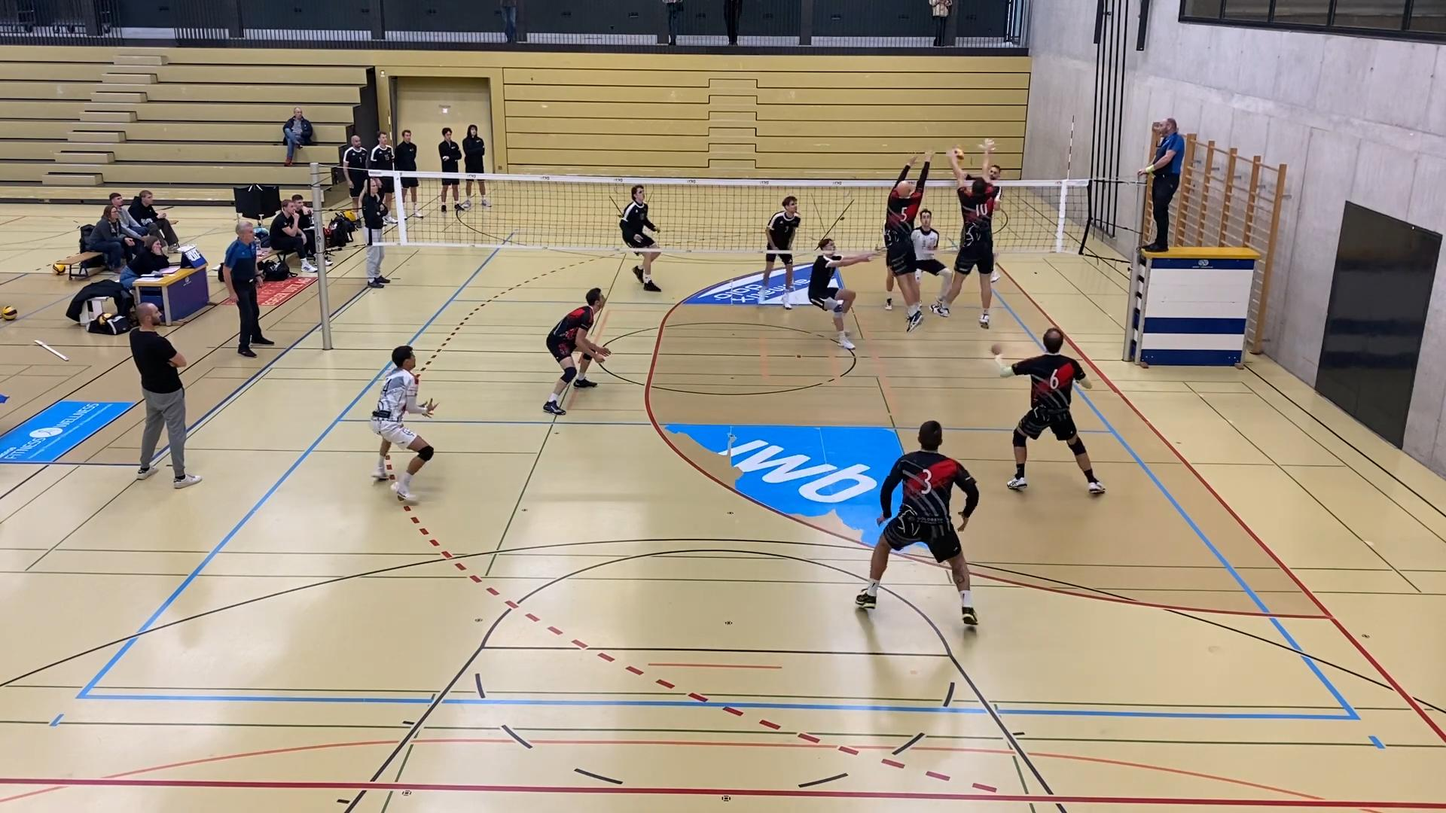muro: (936, 138, 1000, 331), (885, 146, 936, 334)
